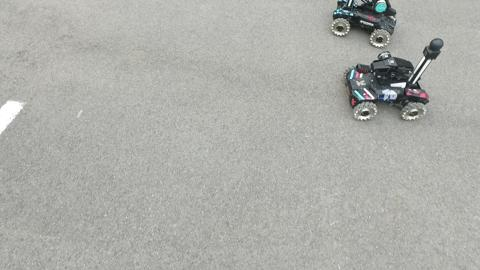chariot: (340, 33, 446, 125), (327, 1, 405, 53)
